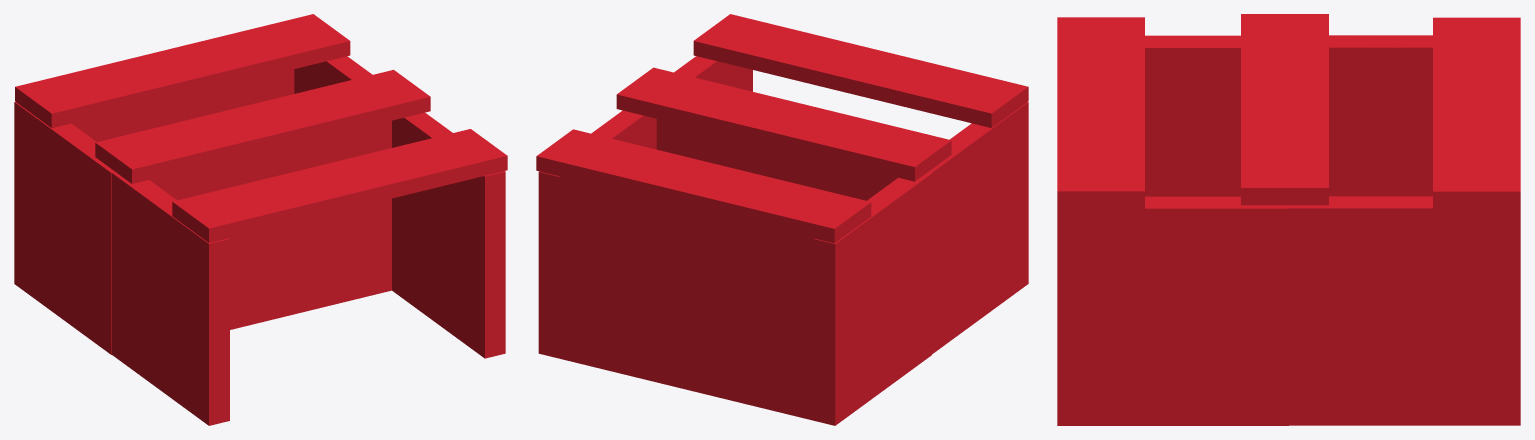
File: tinker.obj
3 renders of one model, left to right at view 1: azimuth 30°, elevation 25°; view 2: azimuth 150°, elevation 25°; view 3: azimuth 270°, elevation 25°, orthographic. The views are drawn at different scales.
Visible parts, largest first — view 1: obj_0; view 2: obj_0; view 3: obj_0.
Part boxes in pixels (left/top/right/bottom): obj_0: left=14, top=14, right=507, bottom=425; obj_0: left=536, top=14, right=1028, bottom=425; obj_0: left=1057, top=14, right=1520, bottom=425.
Bounding box in the file's own units: 51.6 × 33 × 58.
